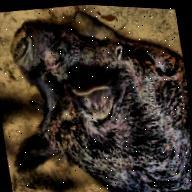boar: (10, 1, 192, 192)
